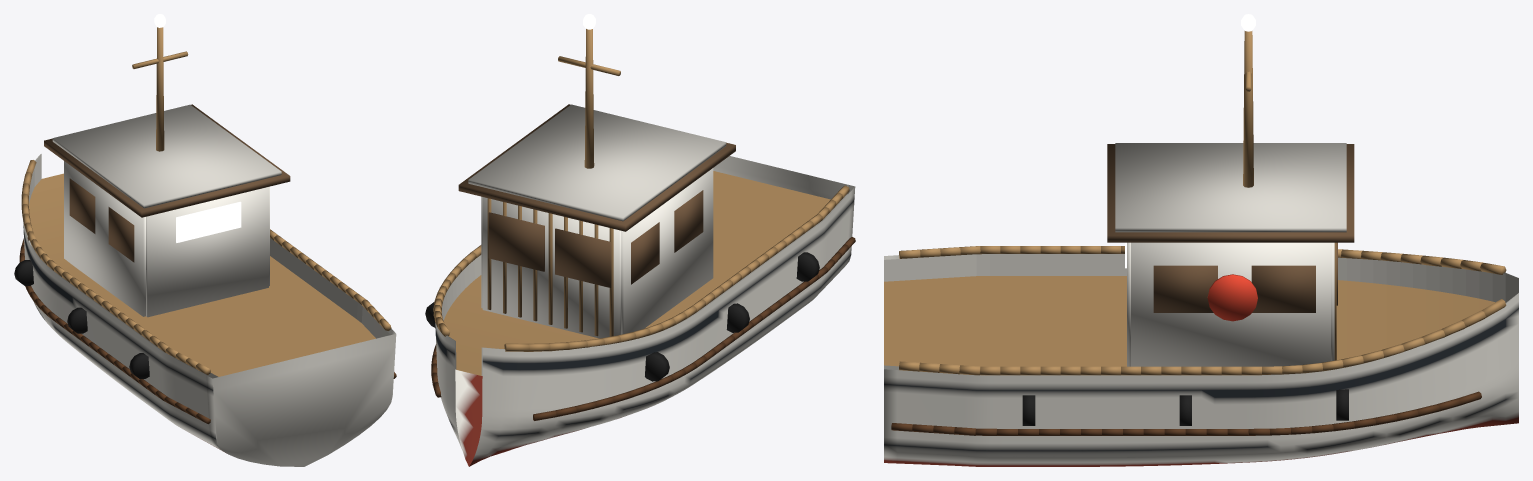
File: lancha.glb
3 renders of one model, left to right at view 1: azimuth 30°, elevation 25°; view 2: azimuth 150°, elevation 25°; view 3: azimuth 270°, elevation 25°, orthographic. The views are drawn at different scales.
Visible parts, largest first — view 1: Casco, Cabine, Madeira, Vidro, Ferro; view 2: Casco, Cabine, Madeira, Ferro; view 3: Casco, Cabine, Madeira, Ferro.
Boxes of the visible parts, left/top/right/bottom form: Casco: left=23, top=154, right=396, bottom=466; Cabine: left=52, top=104, right=281, bottom=317; Madeira: left=19, top=27, right=396, bottom=424; Vidro: left=154, top=14, right=241, bottom=242; Ferro: left=14, top=260, right=149, bottom=378; Casco: left=435, top=156, right=855, bottom=466; Cabine: left=468, top=104, right=726, bottom=338; Madeira: left=431, top=29, right=855, bottom=420; Ferro: left=425, top=252, right=819, bottom=381; Casco: left=884, top=254, right=1518, bottom=466; Cabine: left=1115, top=143, right=1346, bottom=366; Madeira: left=891, top=31, right=1506, bottom=435; Ferro: left=1022, top=274, right=1348, bottom=425.
Size of the model in its own units: 4.29 by 6.17 by 8.1.
